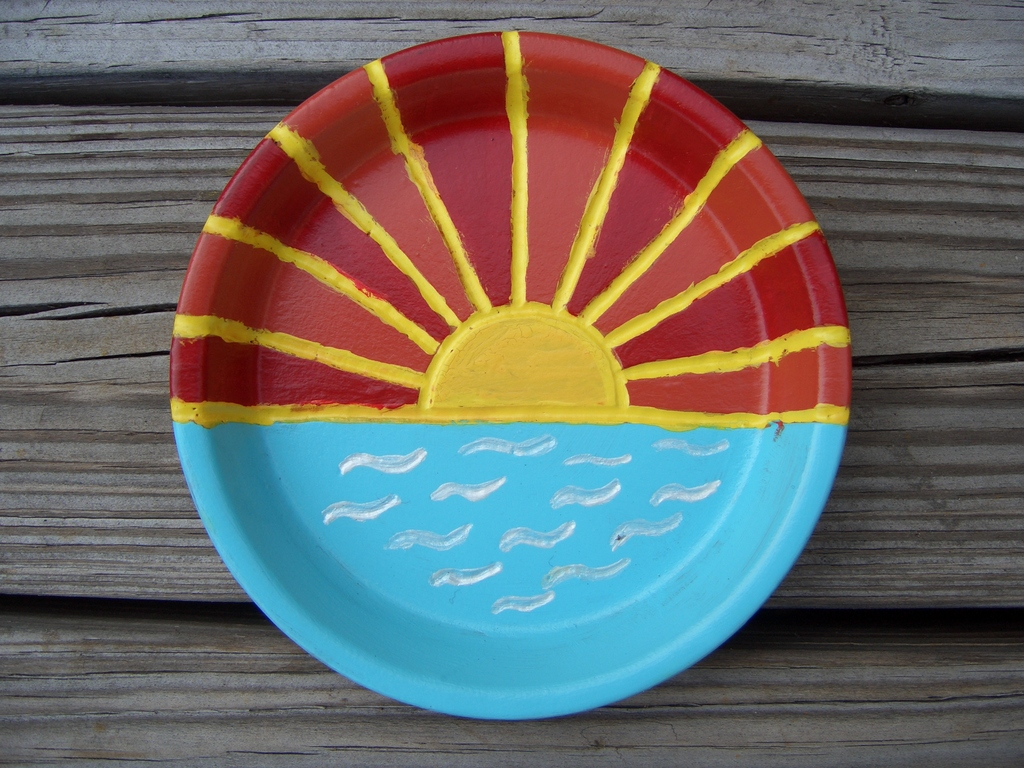plate: (119, 0, 958, 660)
